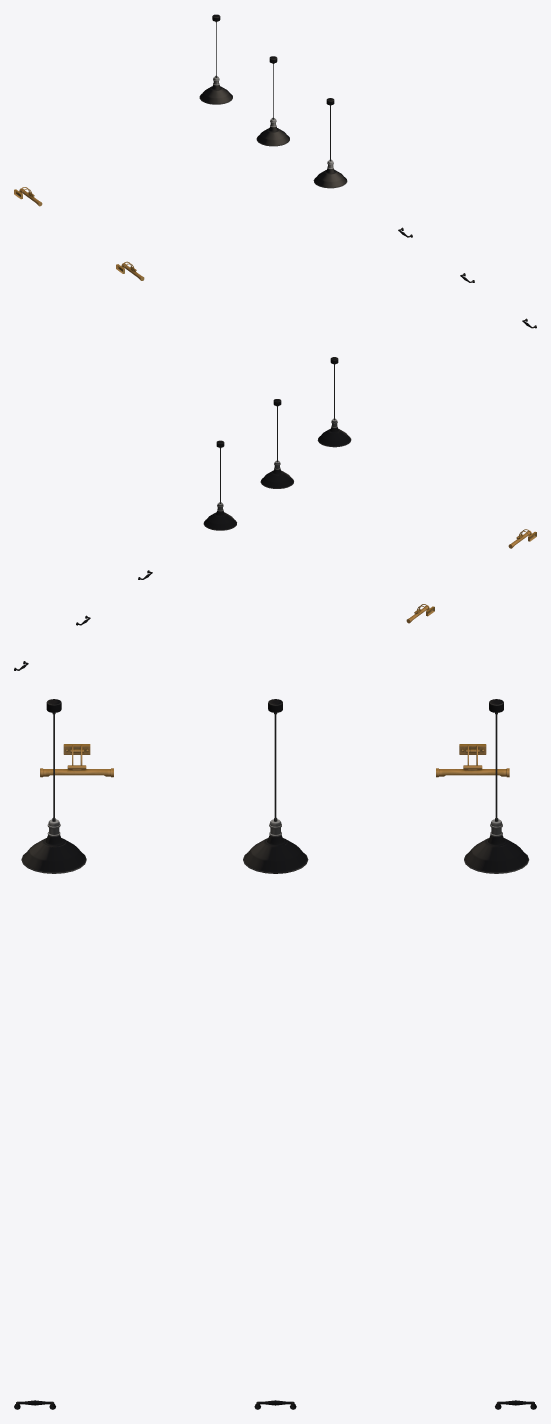
File: BoardCafeA_CeilingLight.fbx
The picture shows the model from 3 angles, top to bottom: view 1: azimuth 30°, elevation 25°; view 2: azimuth 150°, elevation 25°; view 3: azimuth 270°, elevation 25°; orthographic projection. The views are drawn at different scales.
Visible parts, largest first — view 1: BoardCafeA_CeilingLight; view 2: BoardCafeA_CeilingLight; view 3: BoardCafeA_CeilingLight.
Boxes of the visible parts, x1,y1,x2,y2 form: BoardCafeA_CeilingLight: [14, 14, 536, 328]; BoardCafeA_CeilingLight: [14, 357, 536, 670]; BoardCafeA_CeilingLight: [14, 699, 536, 1409].
Bounding box in the file's own units: 557 × 358 × 325.
